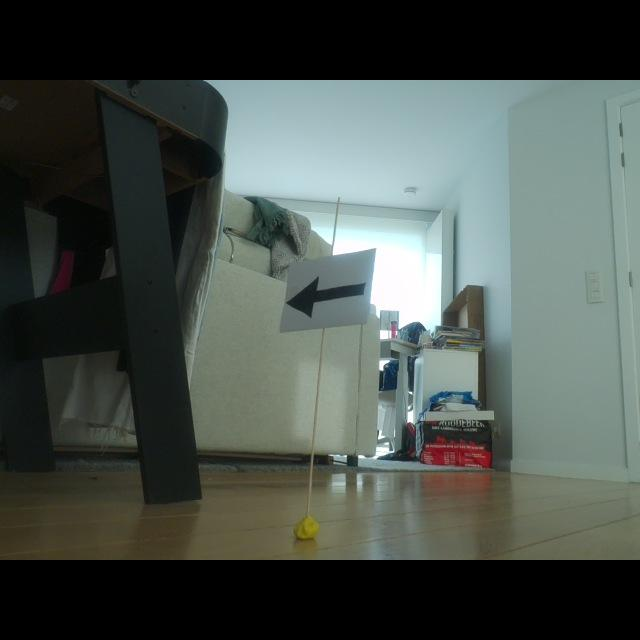balra_nyil: (282, 277, 365, 317)
